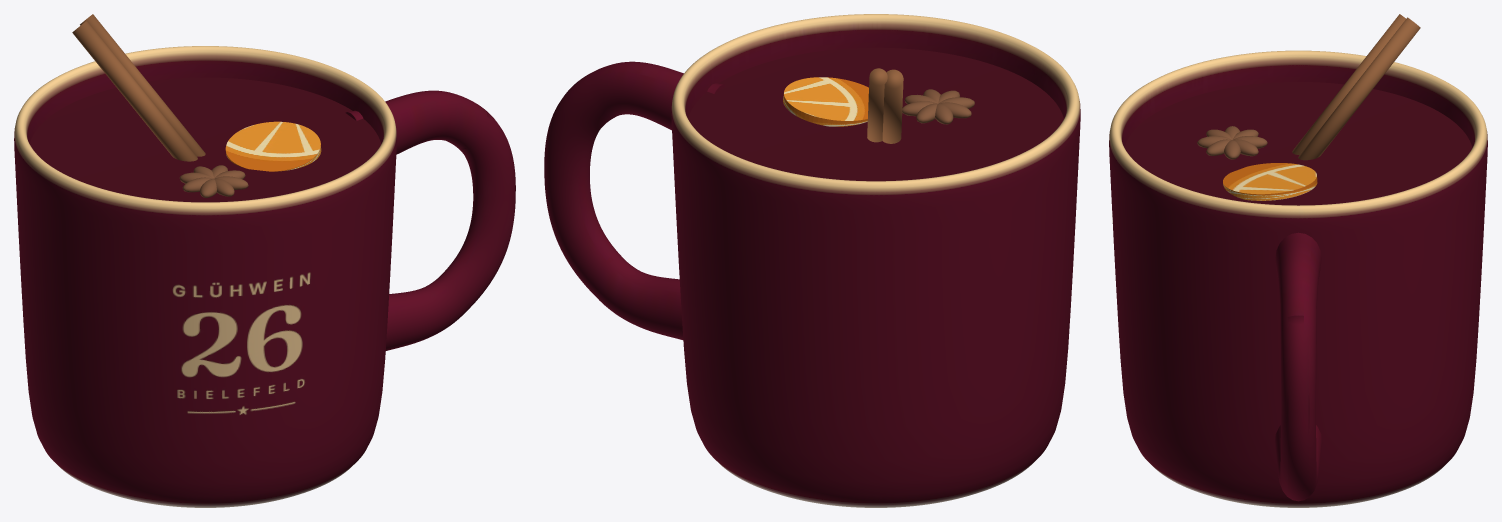
File: klassik.glb
3 renders of one model, left to right at view 1: azimuth 30°, elevation 25°; view 2: azimuth 150°, elevation 25°; view 3: azimuth 270°, elevation 25°, orthographic. The views are drawn at different scales.
Parts seen in each view (by area): view 1: body, wine, cinnamon, orange, anise; view 2: body, wine, orange, cinnamon, anise; view 3: body, wine, cinnamon, orange, anise.
Boxes of the visible parts, x1,y1,x2,y2 form: body: (14, 46, 515, 507); wine: (29, 77, 381, 202); cinnamon: (72, 14, 205, 161); orange: (225, 121, 321, 171); anise: (179, 165, 248, 197); body: (544, 14, 1080, 507); wine: (688, 47, 1063, 181); orange: (783, 77, 868, 126); cinnamon: (867, 68, 903, 143); anise: (902, 89, 974, 124); body: (1109, 50, 1487, 507); wine: (1124, 82, 1472, 205); cinnamon: (1292, 14, 1420, 160); orange: (1223, 163, 1317, 200); anise: (1197, 126, 1267, 159).
Size of the model in its own units: 2.3 by 1.87 by 1.61.
5 materials, 2 textured.
